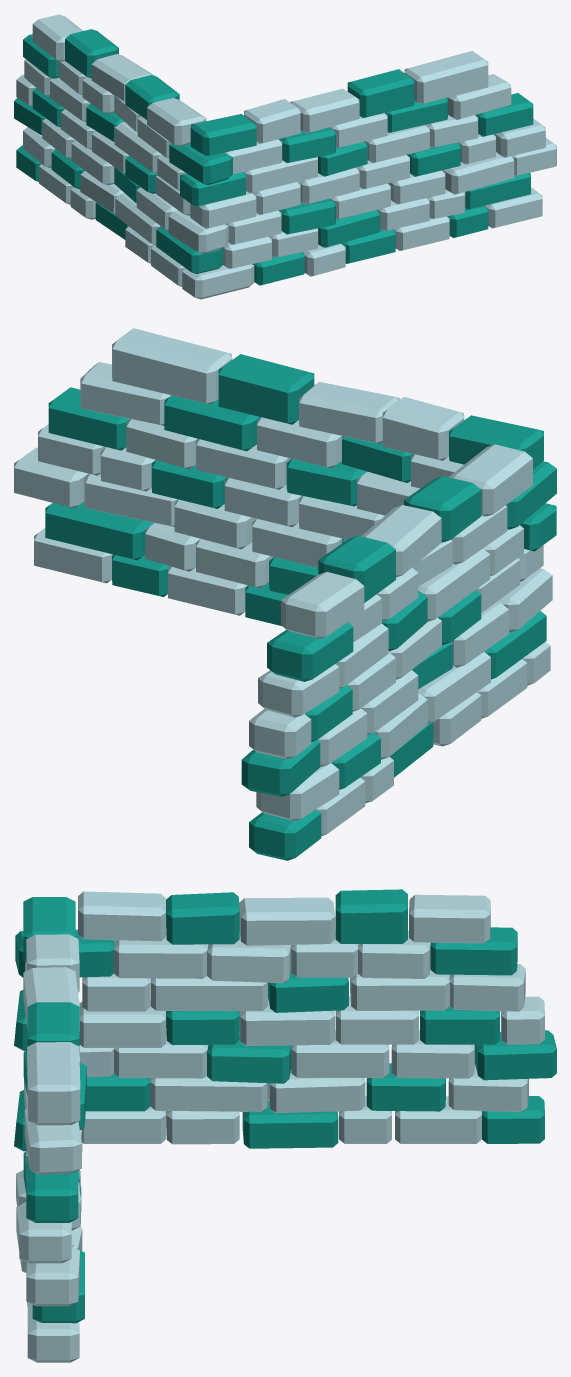
File: SM_Wall03.fbx
The picture shows the model from 3 angles, top to bottom: view 1: azimuth 30°, elevation 25°; view 2: azimuth 150°, elevation 25°; view 3: azimuth 270°, elevation 25°; orthographic projection. The views are drawn at different scales.
Visible parts, largest first — view 1: Wall03; view 2: Wall03; view 3: Wall03.
Part boxes in pixels (x1=…): Wall03: x1=14, y1=14, x2=556, y2=299; Wall03: x1=14, y1=328, x2=556, y2=860; Wall03: x1=14, y1=889, x2=556, y2=1362.
Bounding box in the file's own units: 686 × 305 × 625.
